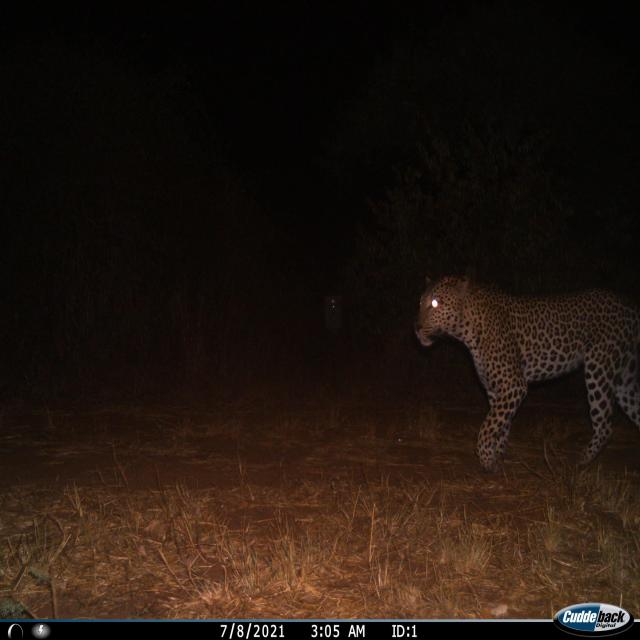Leopard: (410, 259, 640, 493)
